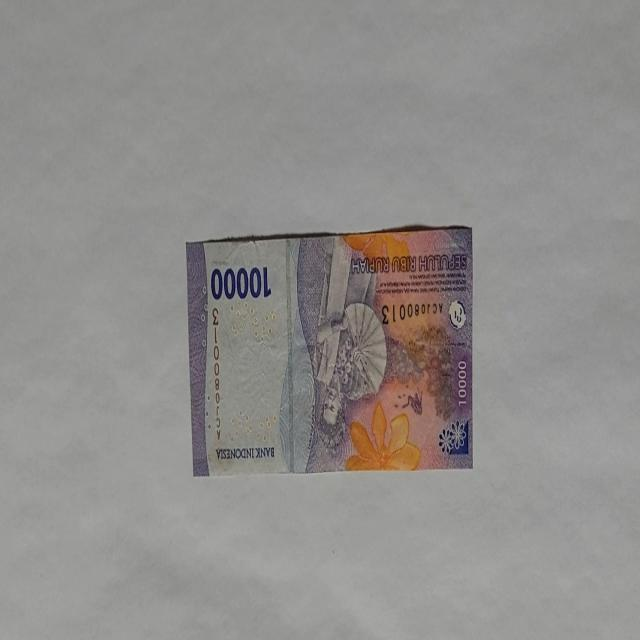sepuluh ribu rupiah: (184, 224, 474, 476), (209, 262, 273, 302)
